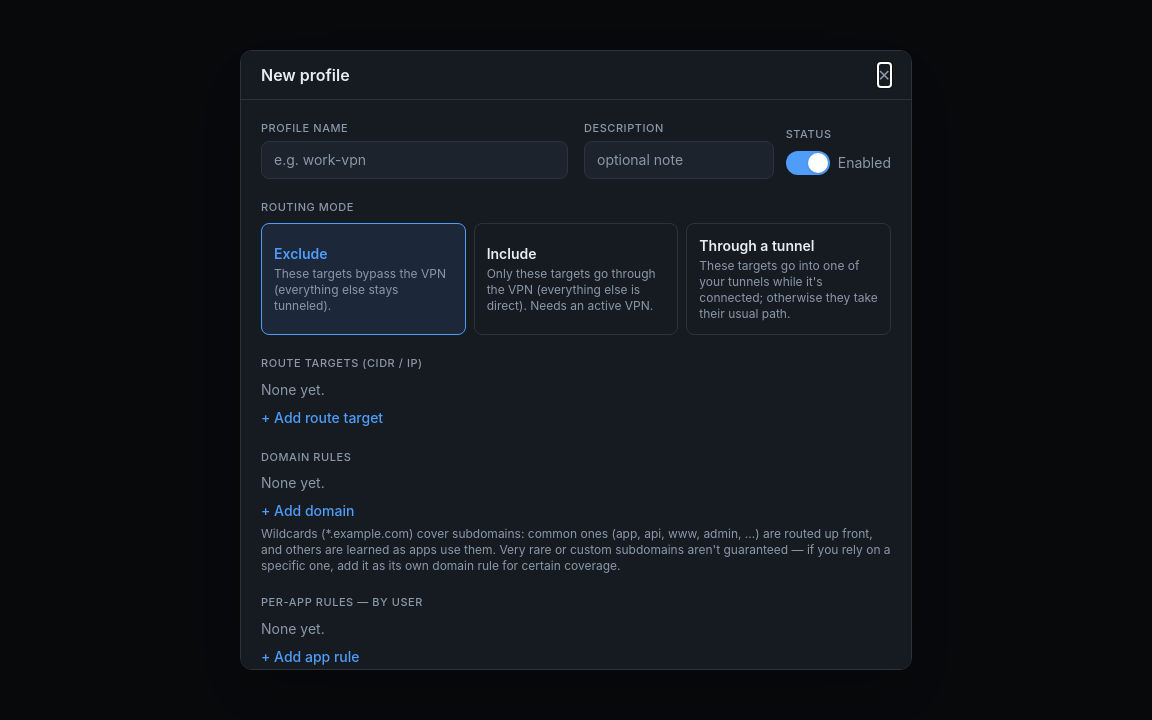
Test: ProfileBuilder › refuses app rules through a tunnel
Type "via-con3" into the field with placeholder "e.g. work-vpn" at (414, 160), box top-left (261, 141), bottom-right (568, 179)
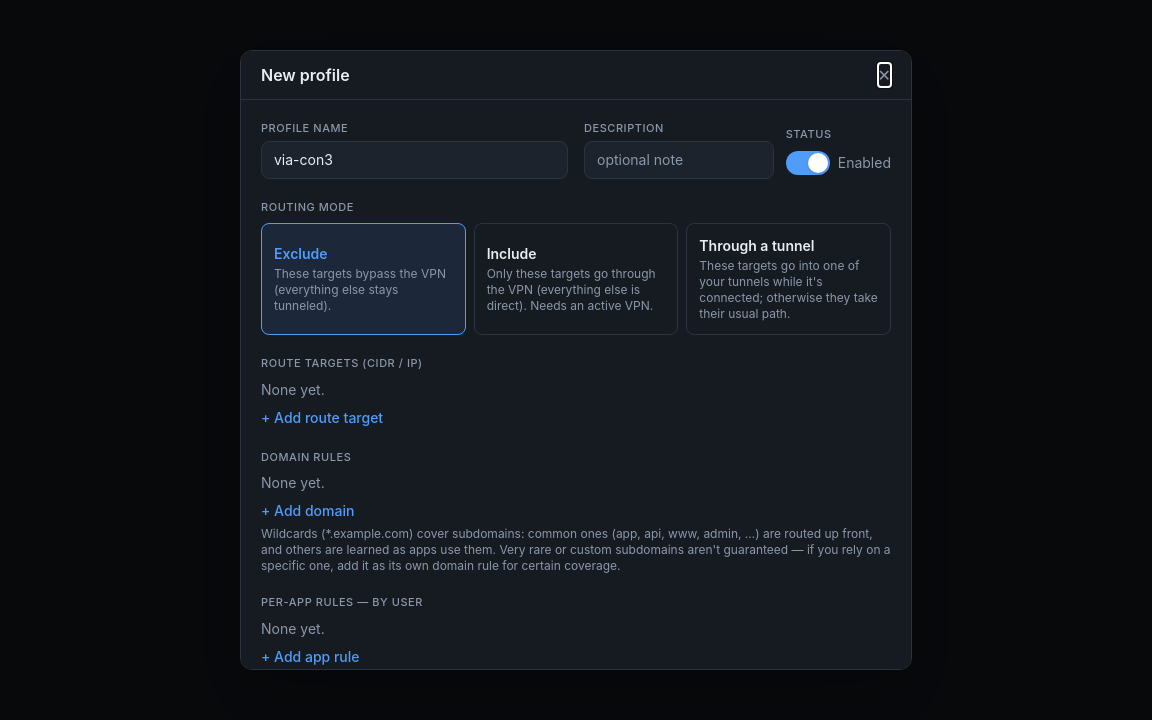
Click the text "Through a tunnel" at (757, 246), box top-left (699, 237), bottom-right (814, 254)
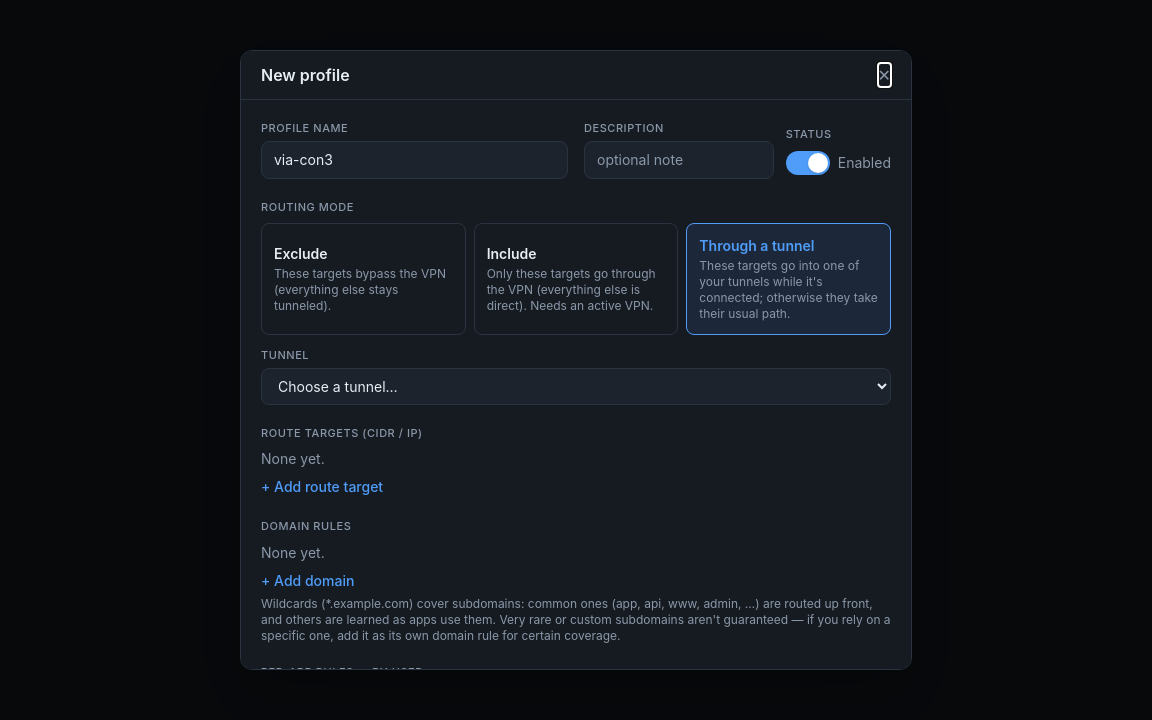
Select "con3 · WireGuard" in the dropdown named "Tunnel" at (576, 386), box top-left (261, 368), bottom-right (891, 405)
(page scrolled)
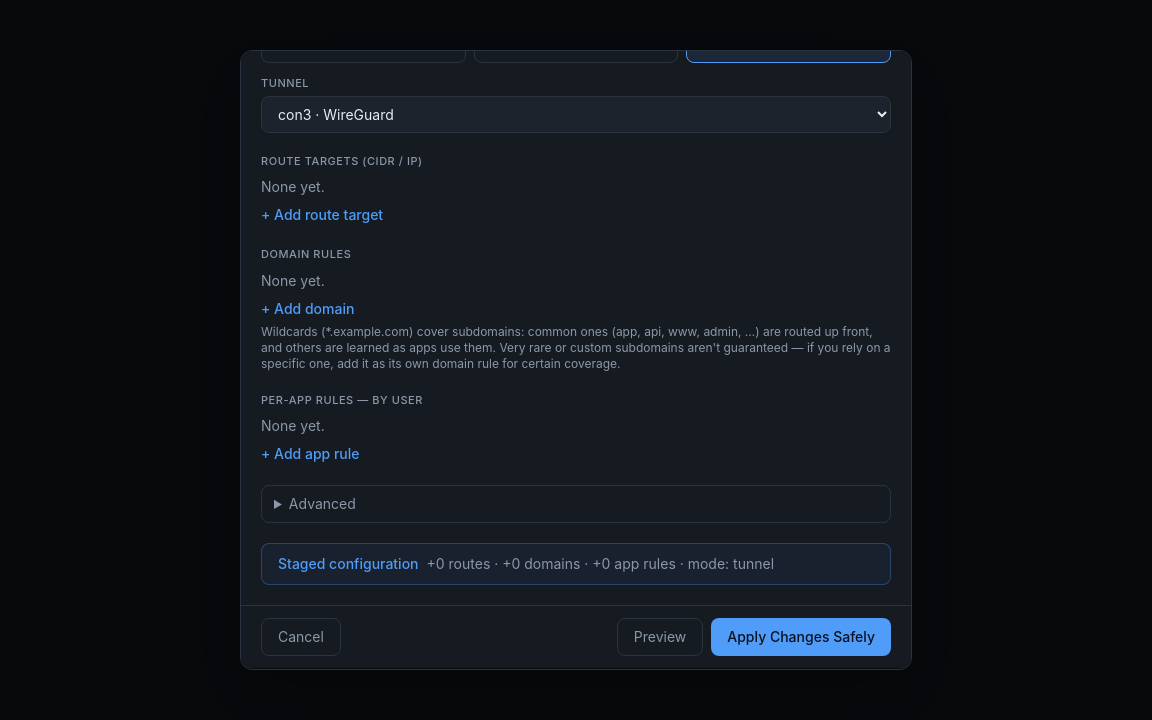
Click the button "+ Add app rule" at (310, 454), box top-left (261, 444), bottom-right (360, 464)
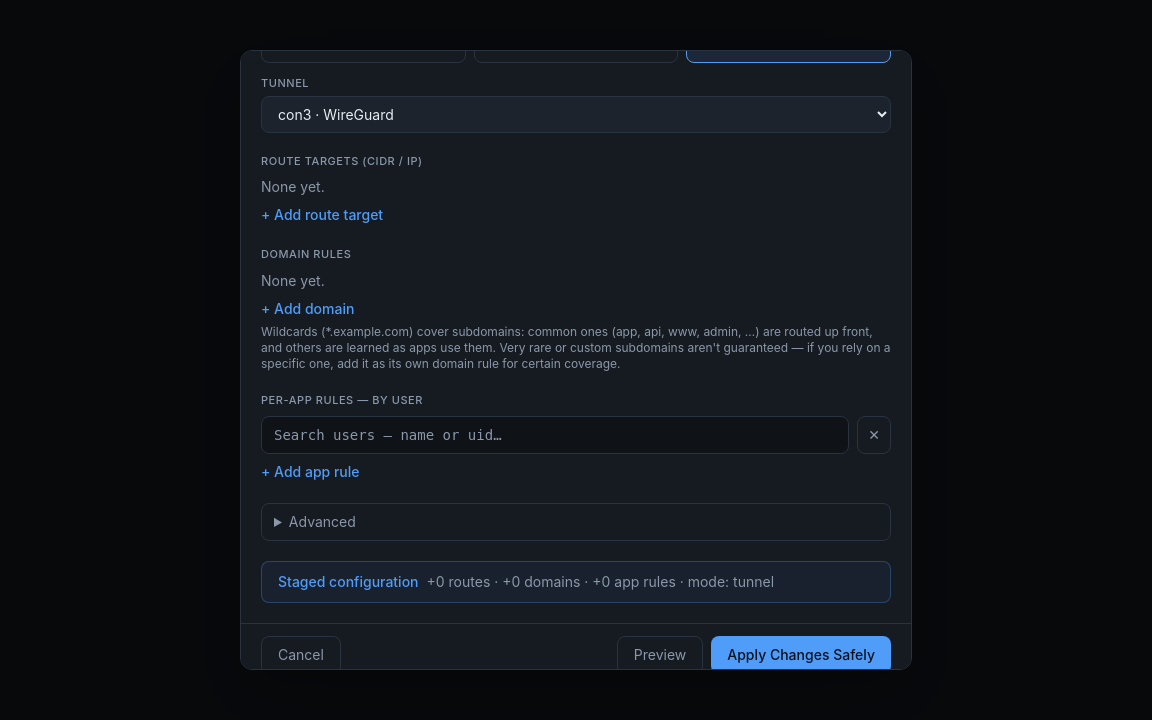
Type "501" into the dropdown named "App rule value" at (555, 435), box top-left (261, 416), bottom-right (849, 454)
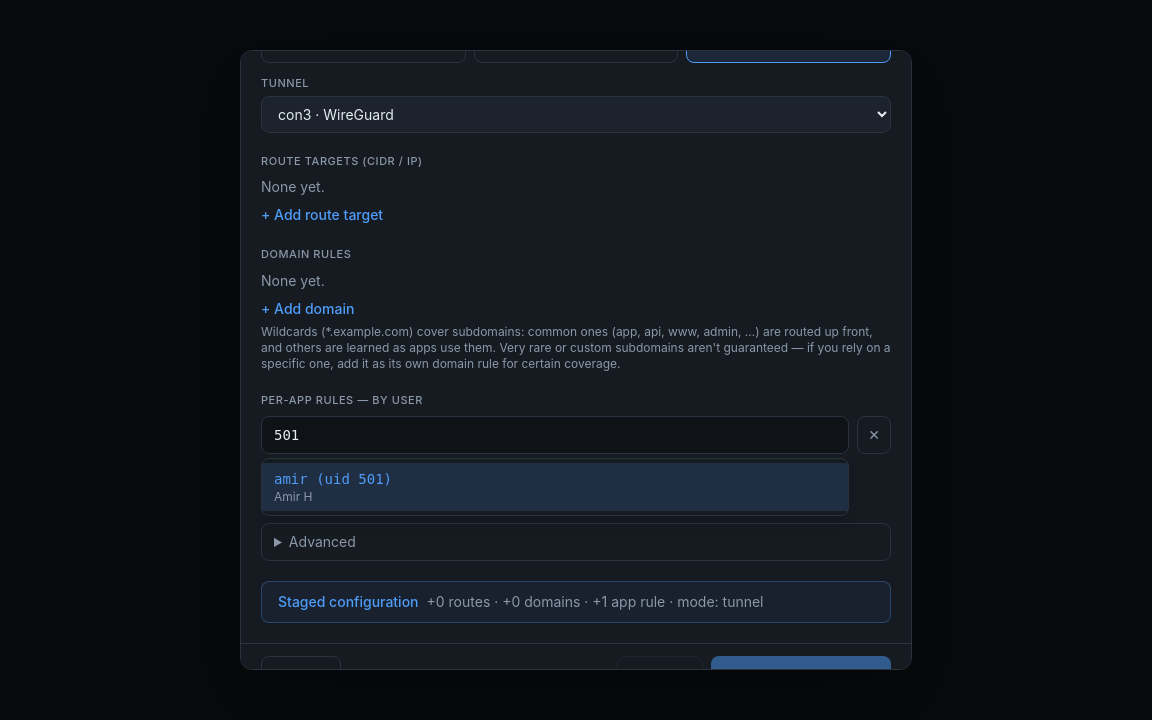
Expected: the text "can't go through a tunnel yet" is shown, top-left (261, 487), bottom-right (774, 502)
